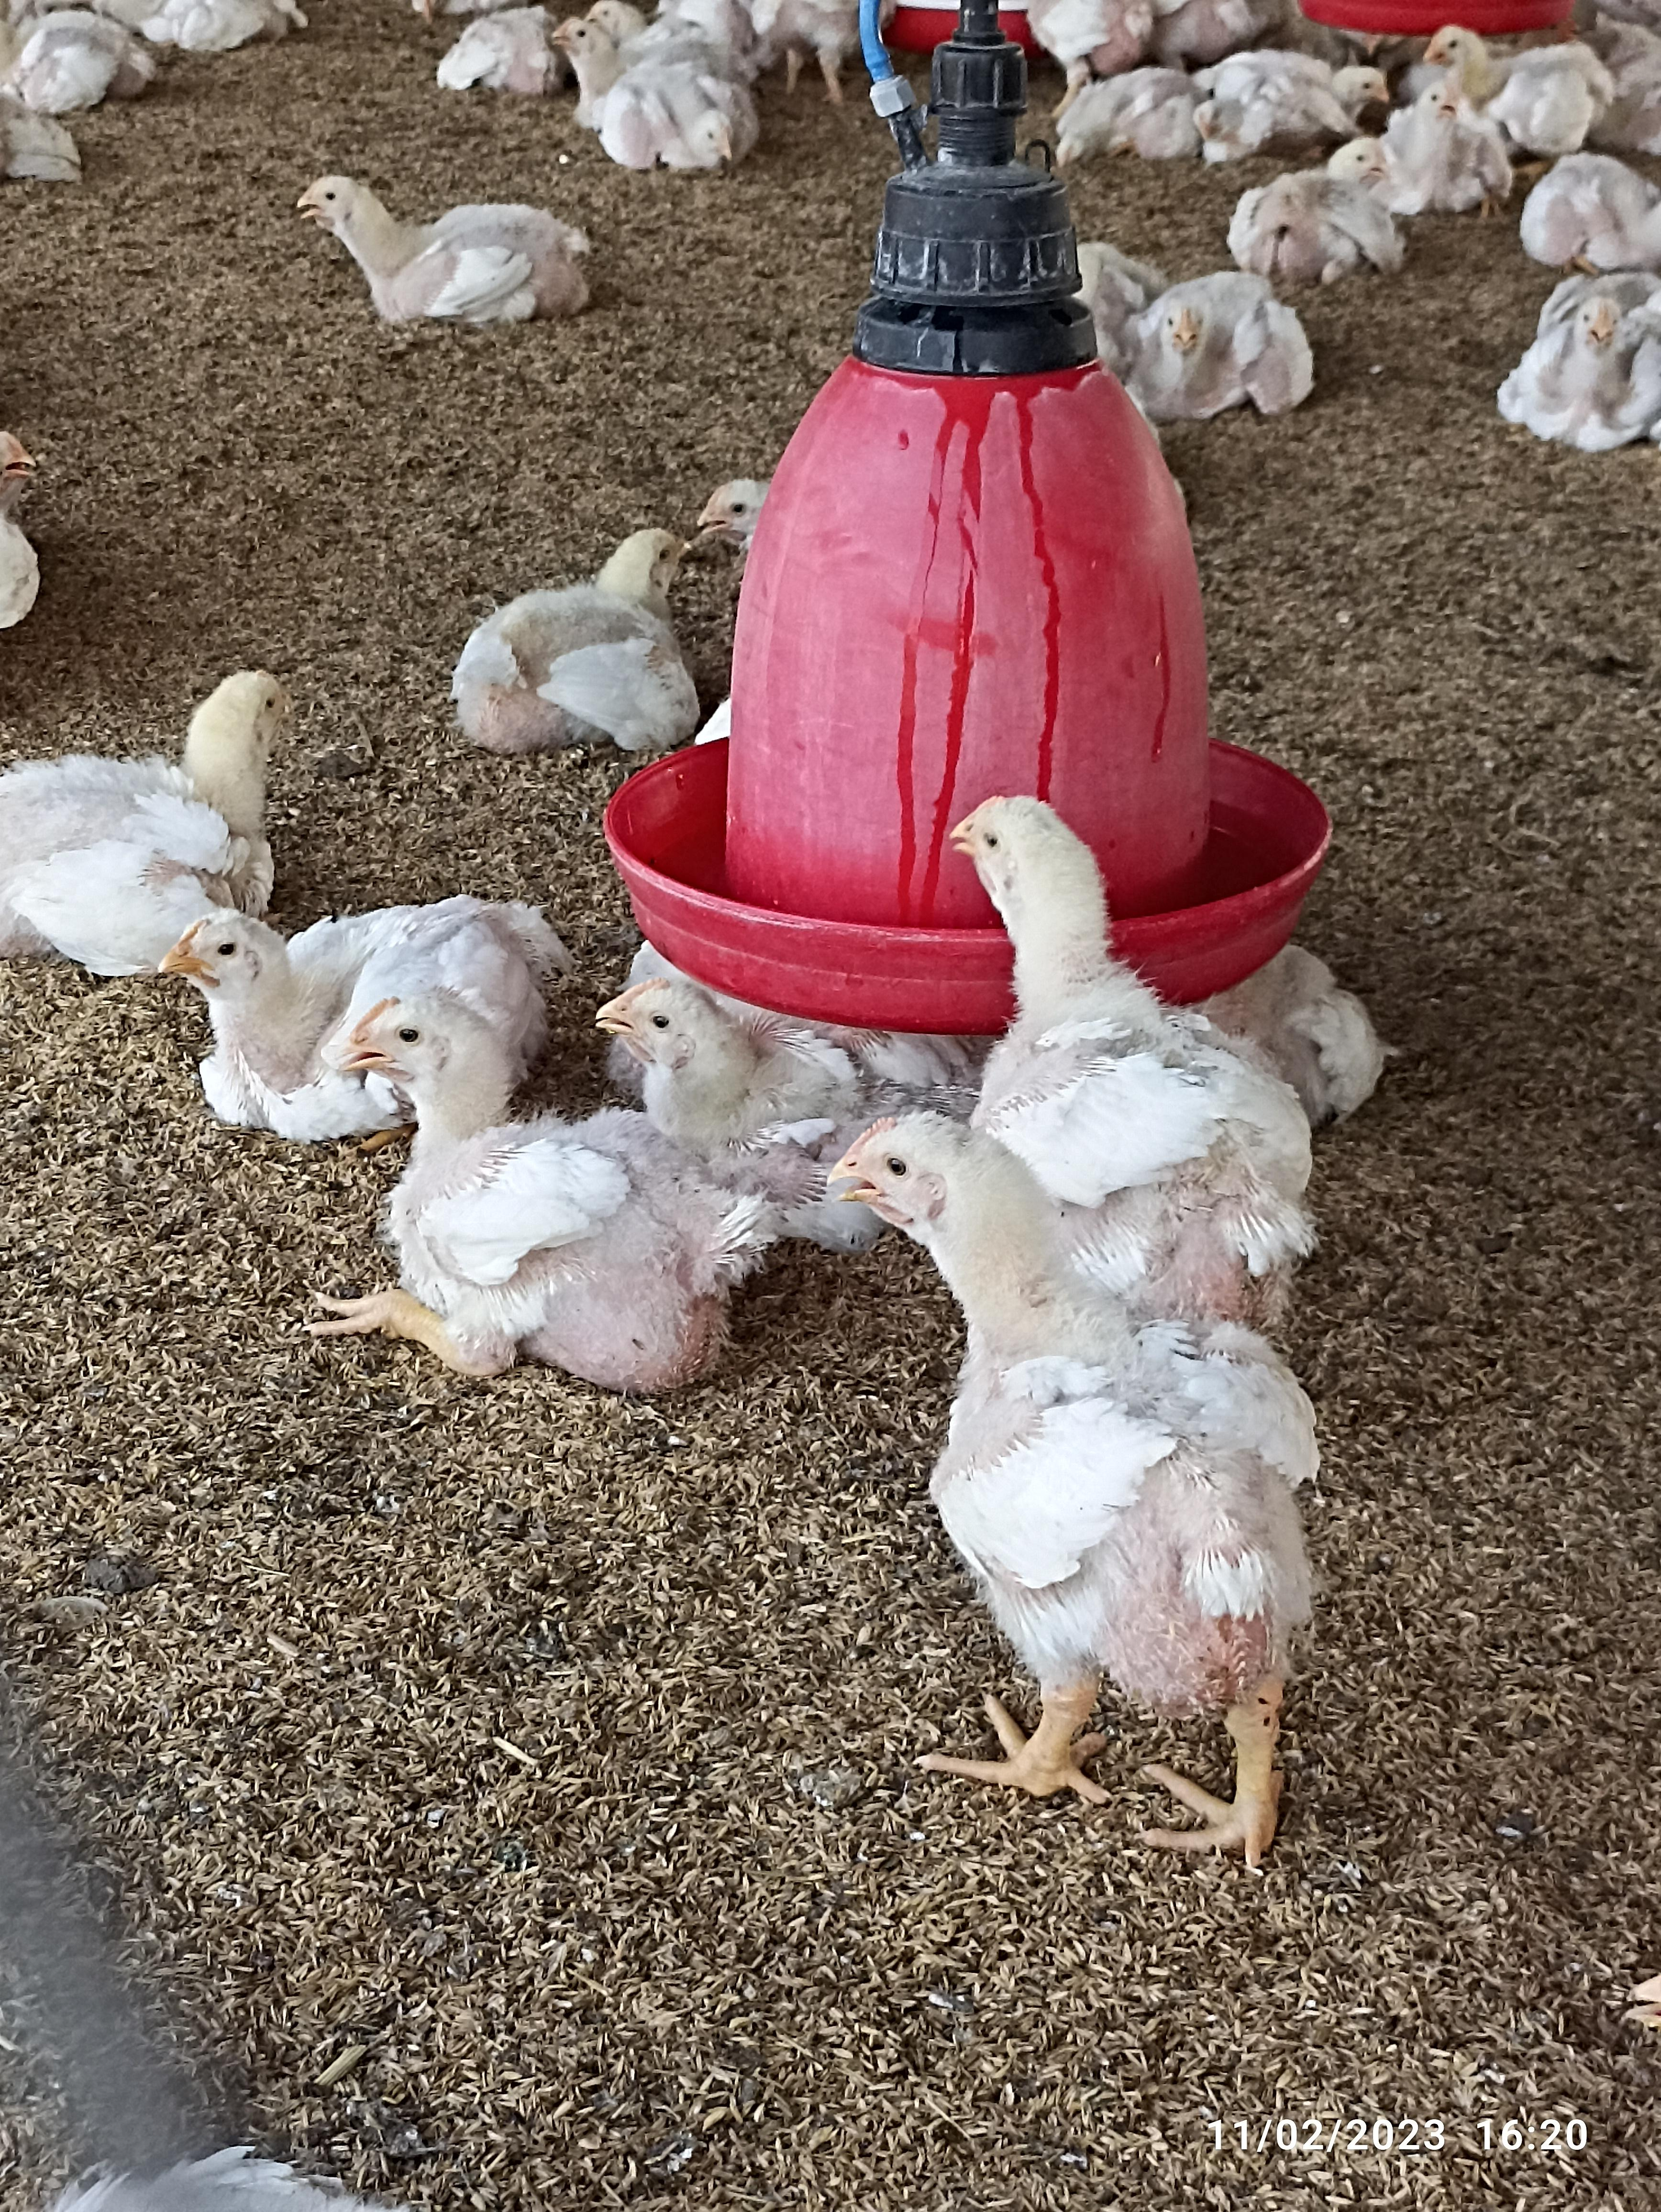Pollos: (837, 1116, 1300, 1692), (330, 998, 733, 1359), (956, 776, 1303, 1143), (2, 672, 291, 932), (468, 520, 703, 734), (291, 169, 598, 311), (181, 918, 377, 1103), (548, 14, 757, 155), (1136, 256, 1317, 415), (1516, 300, 1661, 438), (1260, 141, 1415, 253), (1391, 80, 1516, 202)
